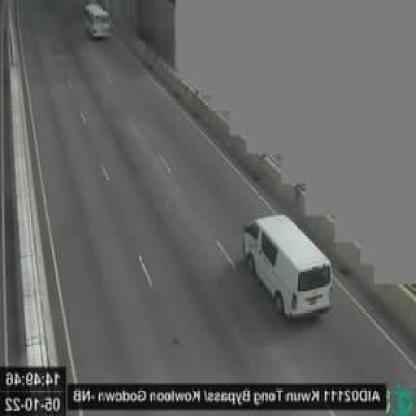Bus: (83, 2, 111, 43)
Car: (245, 212, 332, 317)
